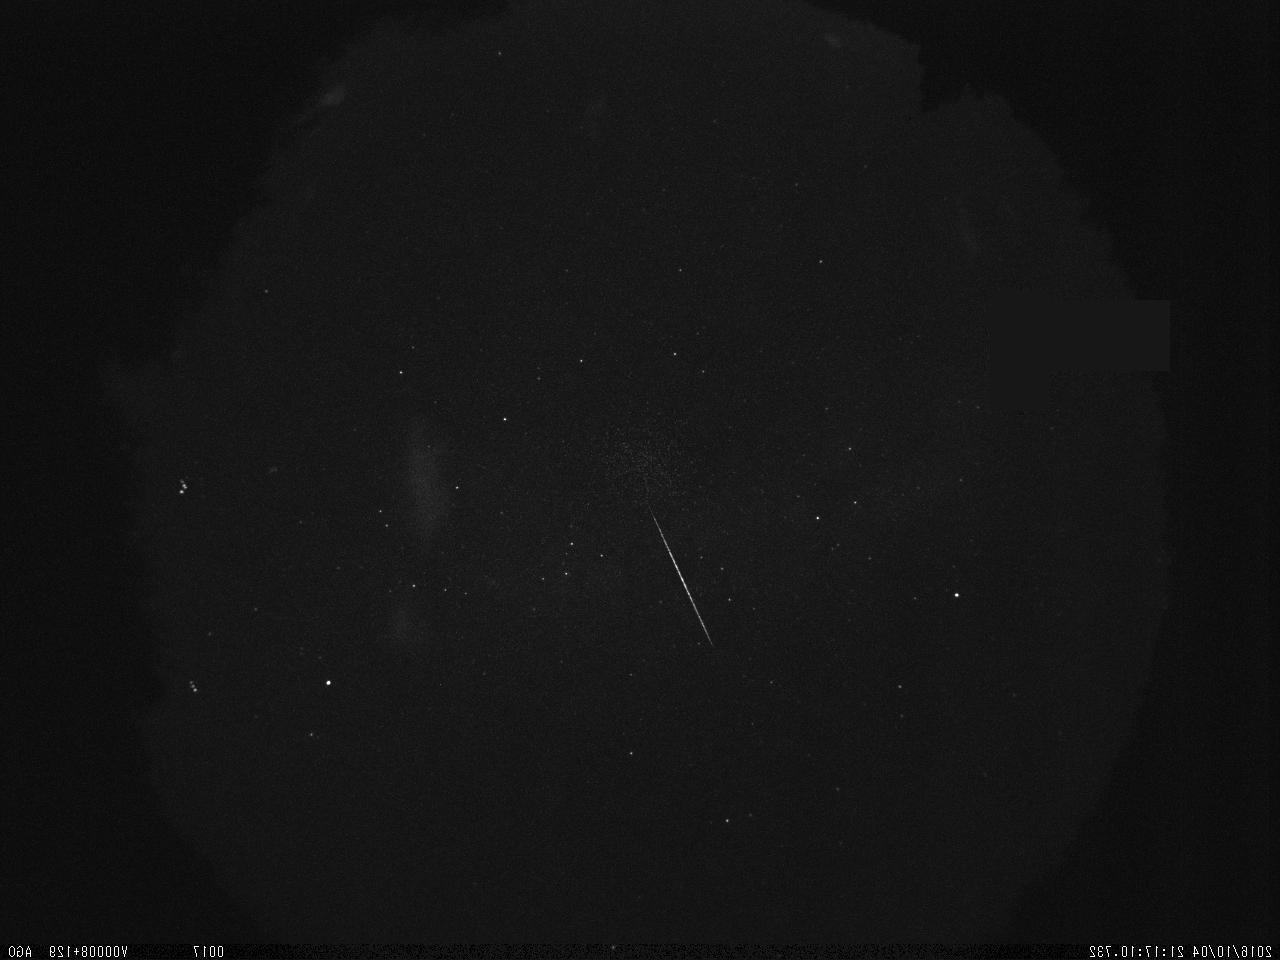meteor: (634, 498, 736, 664)
